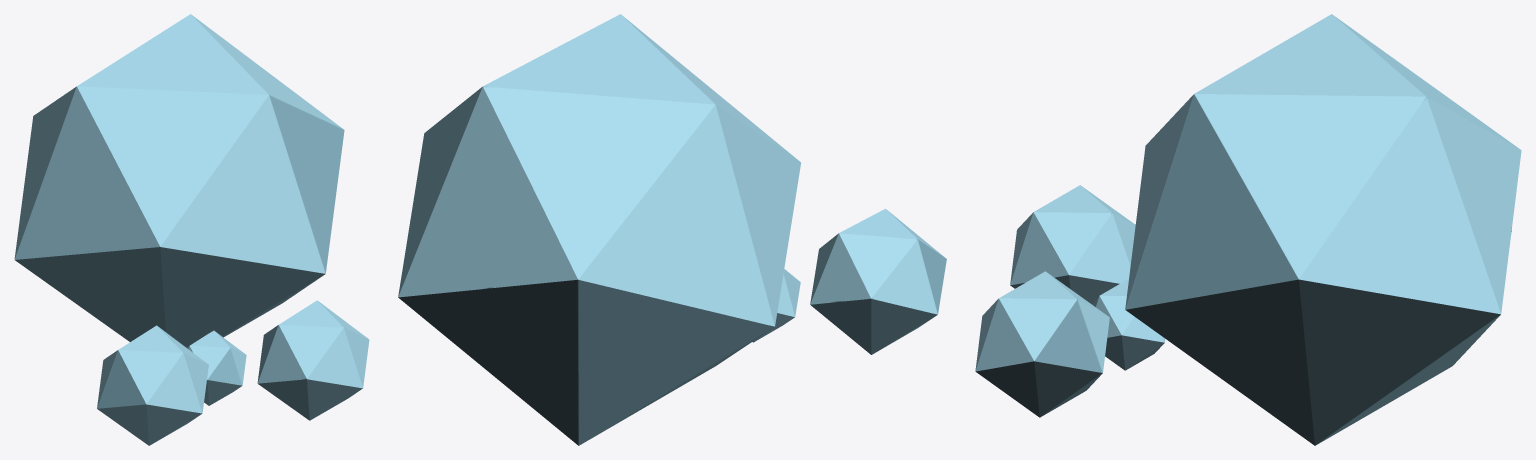
Rendered from Unrefined Metal.fbx.
The picture shows the model from 3 angles, left to right: view 1: azimuth 30°, elevation 25°; view 2: azimuth 150°, elevation 25°; view 3: azimuth 270°, elevation 25°; orthographic projection. The views are drawn at different scales.
Visible parts, largest first — view 1: Unrefined Metal; view 2: Unrefined Metal; view 3: Unrefined Metal.
Boxes of the visible parts, x1,y1,x2,y2 form: Unrefined Metal: (14, 14, 369, 445); Unrefined Metal: (398, 14, 946, 445); Unrefined Metal: (975, 14, 1521, 445).
Size of the model in its own units: 21.83 by 16.58 by 25.44.
